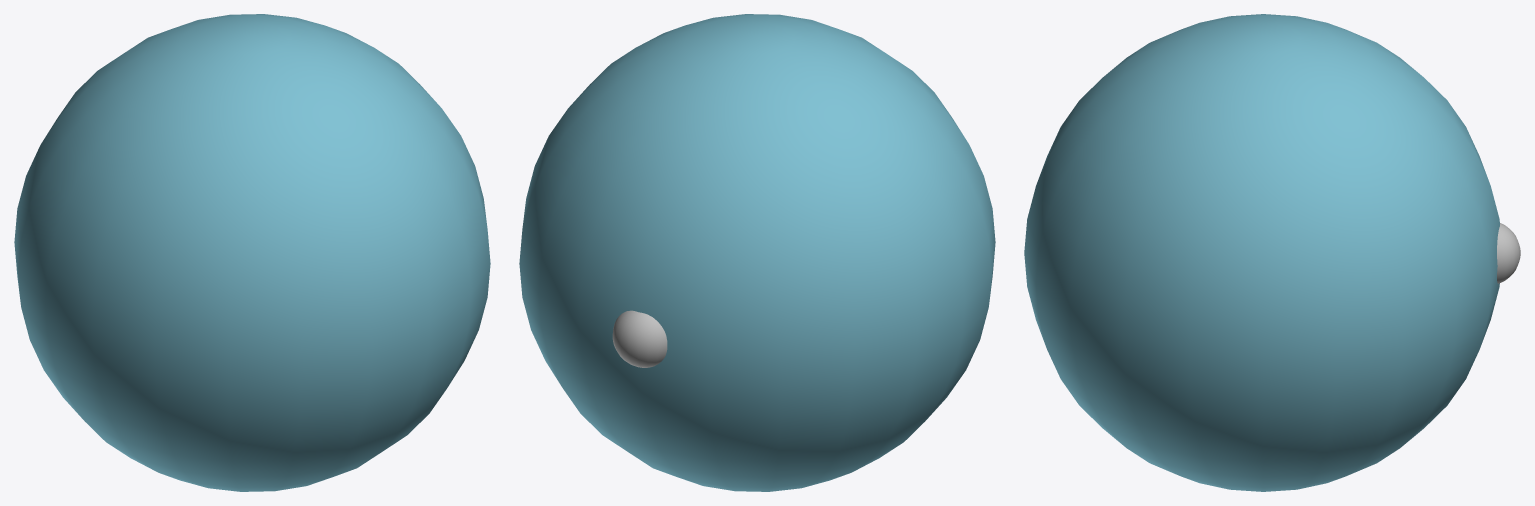
The model's file is Psyber_Arches.fbx.
The picture shows the model from 3 angles, left to right: view 1: azimuth 30°, elevation 25°; view 2: azimuth 150°, elevation 25°; view 3: azimuth 270°, elevation 25°; orthographic projection.
Visible parts, largest first — view 1: pSphere2; view 2: pSphere2, pSphere3; view 3: pSphere2, pSphere3.
Part boxes in pixels (x1,y1,x2,y2): pSphere2: (14,14,490,491); pSphere2: (519,14,995,491); pSphere3: (612,310,667,367); pSphere2: (1024,14,1499,491); pSphere3: (1497,223,1520,283).
Size of the model in its own units: 89.91 by 89.91 by 93.33.
